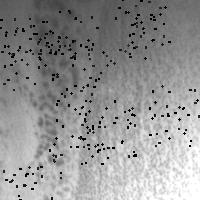pitted_surface: (86, 1, 200, 199), (24, 1, 83, 175), (56, 43, 114, 103), (1, 30, 58, 89), (37, 10, 96, 65), (49, 104, 104, 163), (79, 100, 135, 157), (115, 0, 168, 57), (149, 85, 198, 145), (0, 11, 40, 65), (2, 166, 62, 200)
